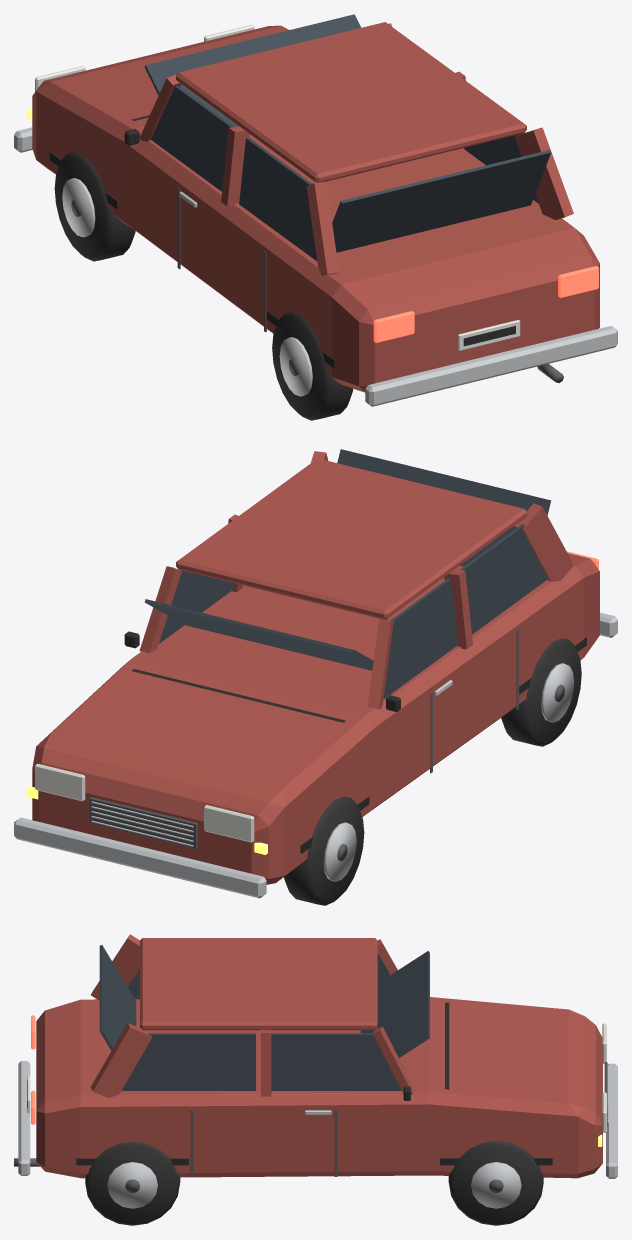
File: v_car_red.glb
3 views of the same model, one above another, from view 1: azimuth 30°, elevation 25°; view 2: azimuth 150°, elevation 25°; view 3: azimuth 270°, elevation 25° (orthographic). The views are drawn at different scales.
Parts seen in each view (by area): view 1: Auto_Red; view 2: Auto_Red; view 3: Auto_Red.
Part boxes in pixels (x1,y1,x2,y2): Auto_Red: (14, 14, 617, 420); Auto_Red: (14, 449, 617, 905); Auto_Red: (14, 934, 617, 1225).
Size of what is drawn, in the model's own units: 1.78 by 1.45 by 4.07.
